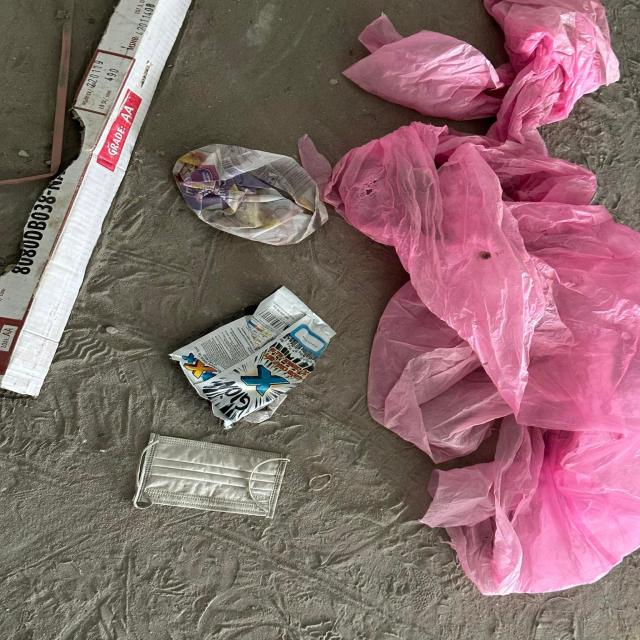bag: (301, 0, 640, 595), (173, 146, 330, 246)
mask: (131, 432, 288, 521)
snack package: (168, 286, 336, 428)
